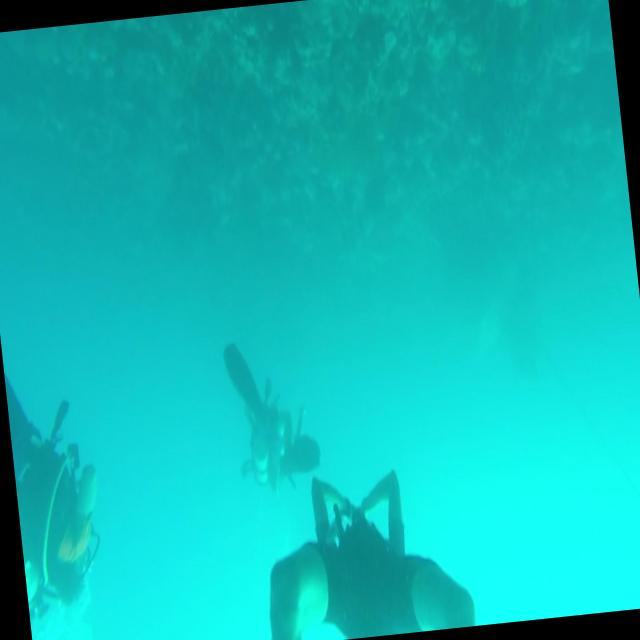human: (250, 459, 477, 640), (1, 341, 110, 624), (221, 334, 324, 500)
